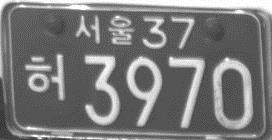0: (212, 59, 254, 130)
3: (83, 53, 121, 126), (142, 15, 166, 49)
7: (167, 56, 206, 130), (170, 16, 196, 50)
9: (125, 55, 164, 126)
서울_O: (73, 12, 135, 46)
허: (23, 52, 67, 102)
